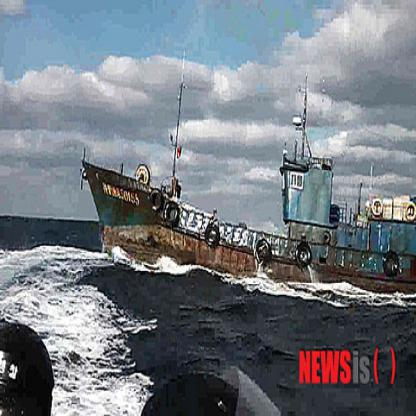fish-b: (76, 57, 416, 303)
